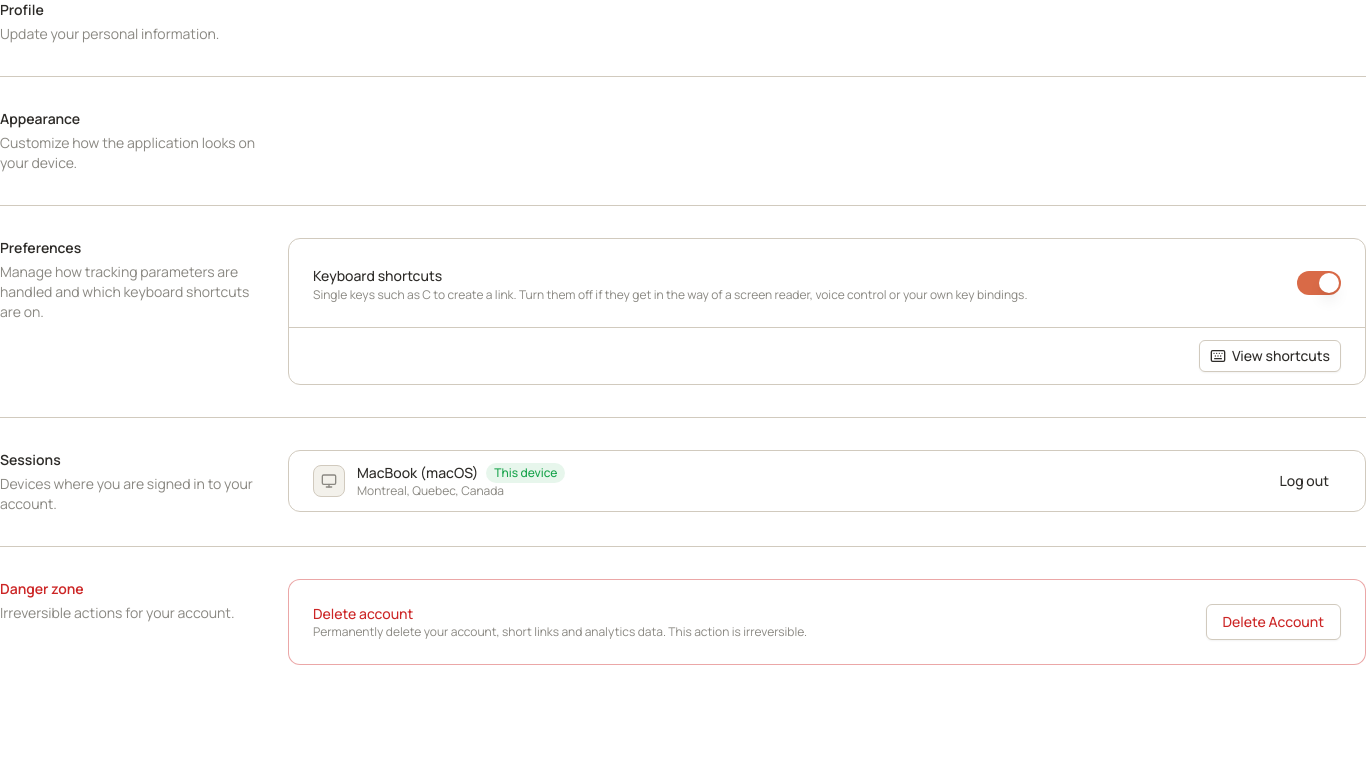
Test: GeneralSettingsPage account deletion dialog › opens the delete account confirmation from the danger zone
The width and height of the screenshot is (1366, 768).
Click the button "Delete Account". click: (1273, 622)
box: x1=1206 y1=604 x2=1341 y2=640
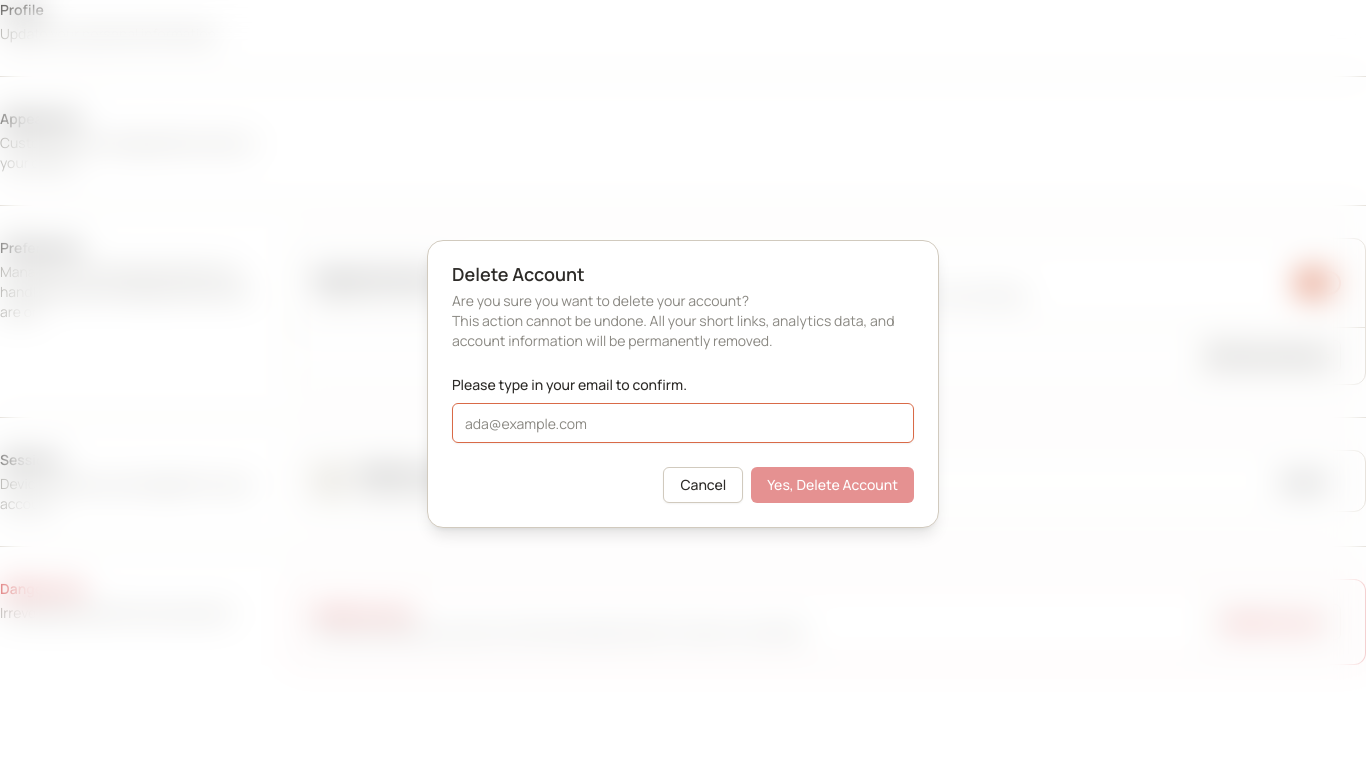
Expected: the field labelled "Please type in your email to confirm." is shown, x1=452 y1=403 x2=914 y2=443
